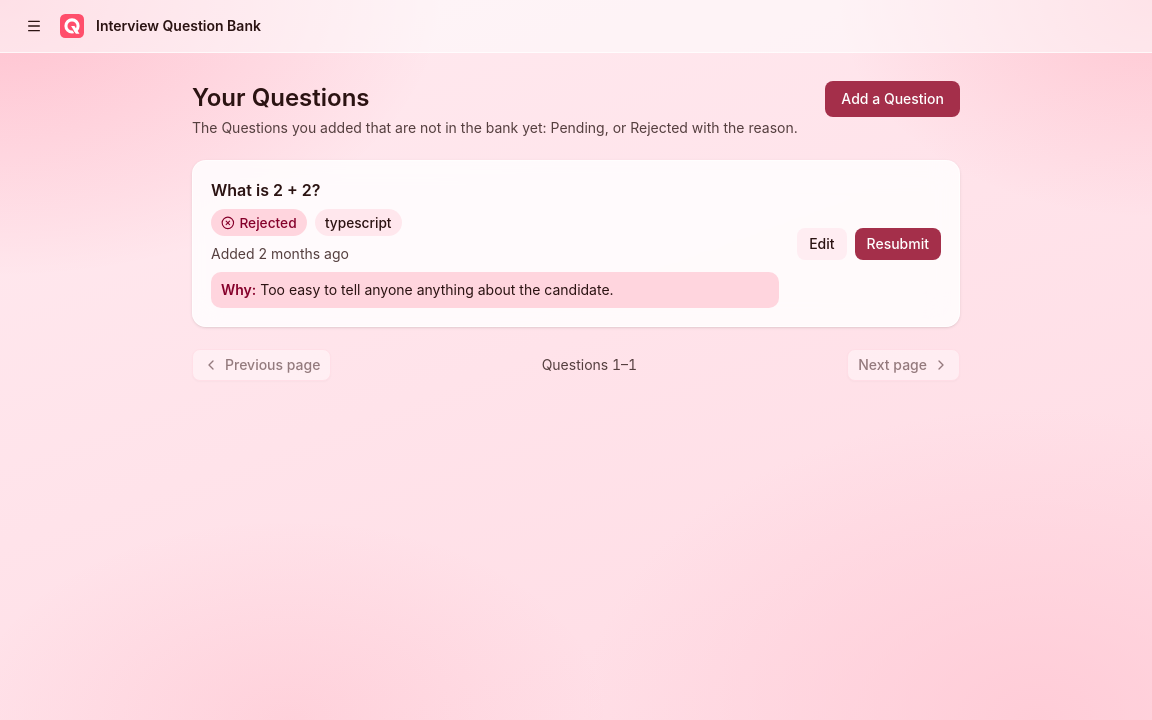
Test case: resubmitting a Rejected Question › sends it from the Author's own list, which then shows it as Pending
The width and height of the screenshot is (1152, 720).
Click the button "Resubmit": [898, 244] box [854,228,941,260]
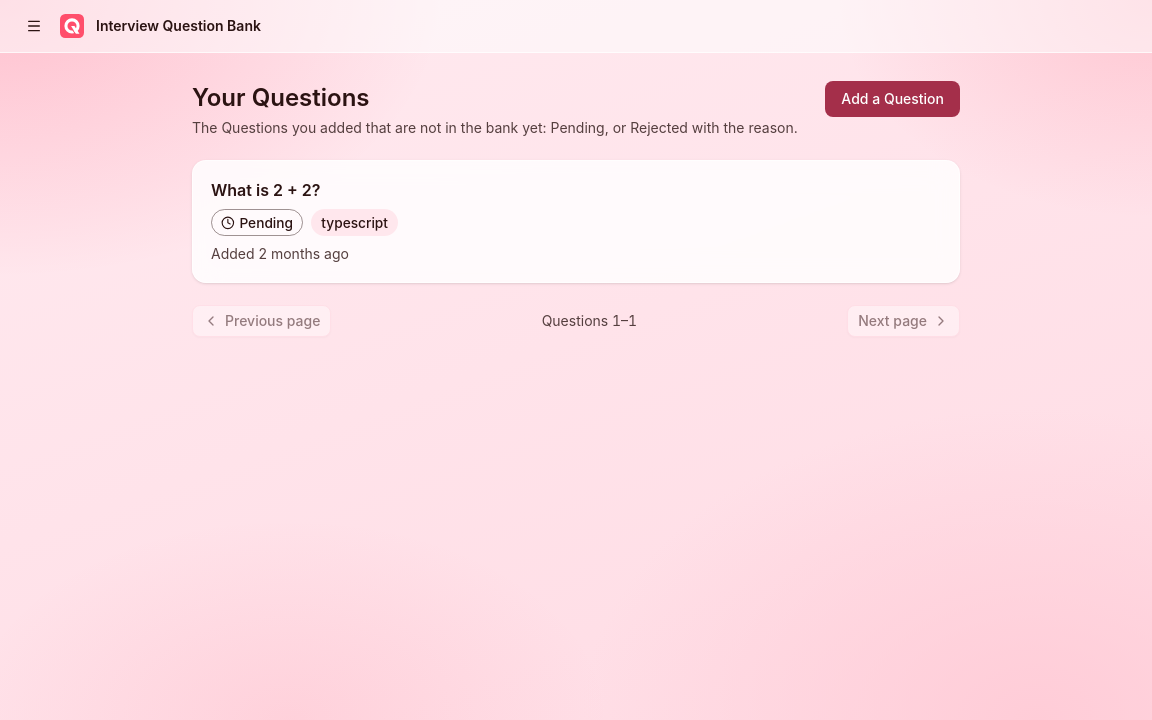
Expected: the text "Pending" is shown, [211,209,303,236]
Expected: the button "Resubmit" is gone
